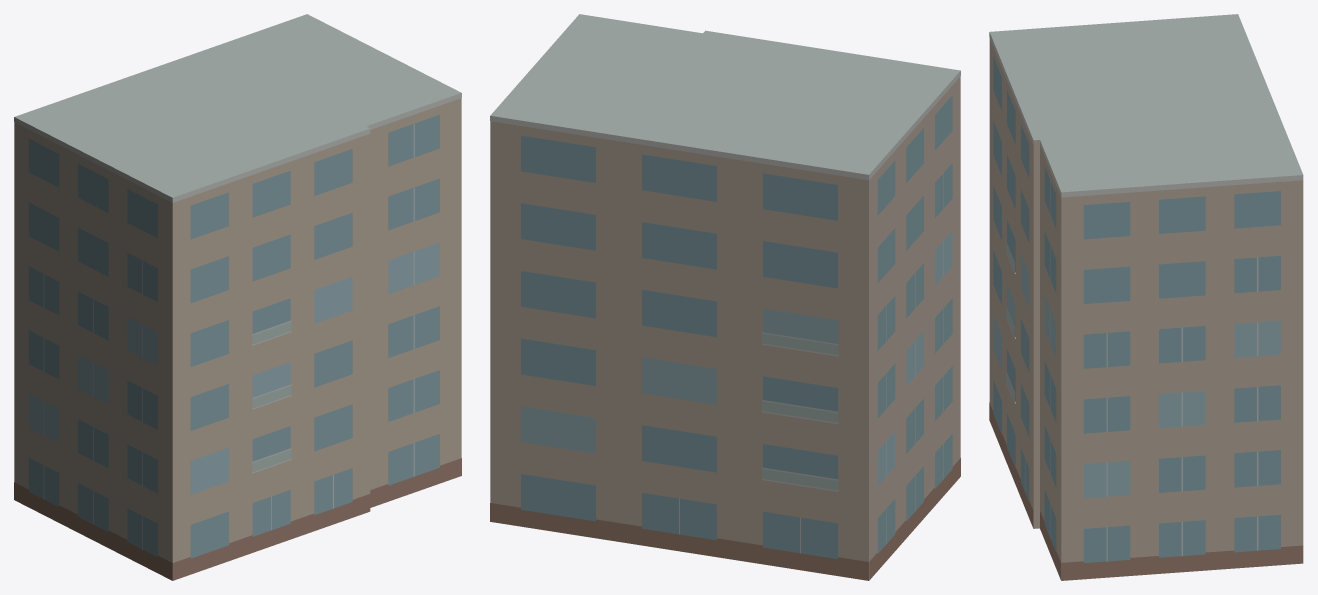
Rendered from survey-upis-32636339.glb.
3 renders of one model, left to right at view 1: azimuth 30°, elevation 25°; view 2: azimuth 150°, elevation 25°; view 3: azimuth 270°, elevation 25°, orthographic. The views are drawn at different scales.
Parts seen in each view (by area): view 1: survey-upis-32636339.tmp; view 2: survey-upis-32636339.tmp; view 3: survey-upis-32636339.tmp.
Part boxes in pixels (<box>): survey-upis-32636339.tmp: <box>14,14,461,580</box>; survey-upis-32636339.tmp: <box>490,14,960,580</box>; survey-upis-32636339.tmp: <box>989,14,1303,580</box>.
Size of the model in its own units: 18.03 by 18.3 by 13.41.
